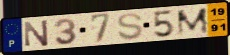3: (53, 17, 79, 46)
5: (153, 9, 176, 38)
7: (89, 12, 112, 46)
M: (175, 6, 211, 37)
N: (23, 18, 50, 48)
S: (116, 12, 145, 41)
